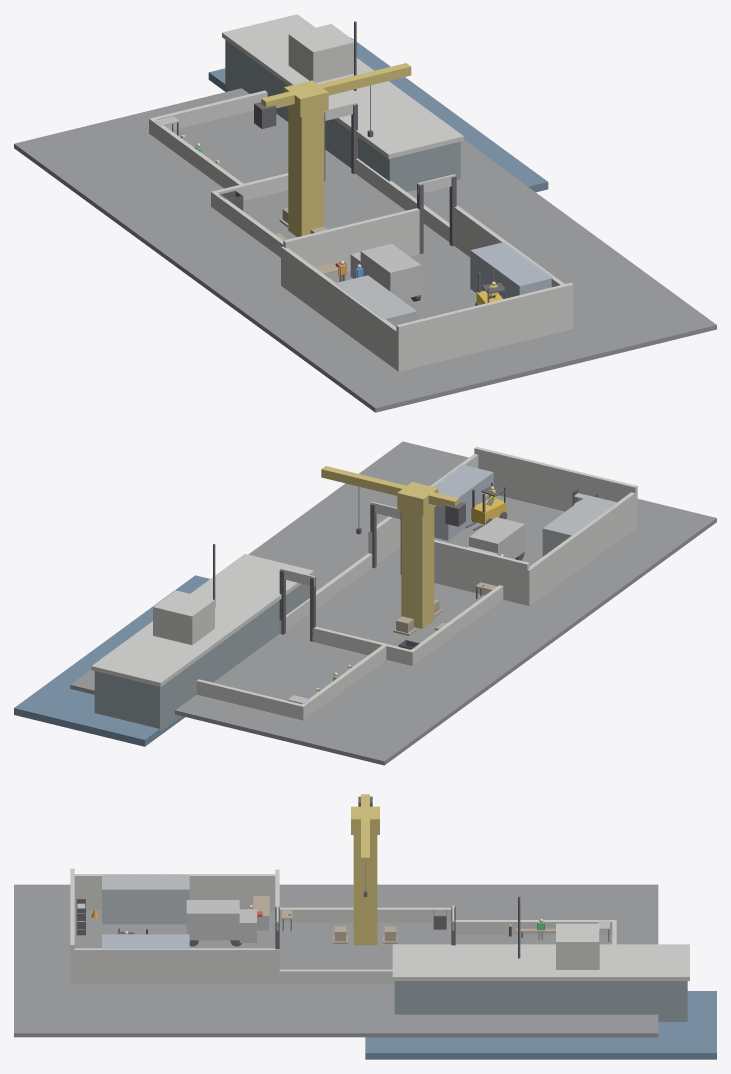
3 renders of one model, top to bottom at view 1: azimuth 30°, elevation 25°; view 2: azimuth 150°, elevation 25°; view 3: azimuth 270°, elevation 25°, orthographic. The views are drawn at different scales.
Parts seen in each view (by area): view 1: ground, S03_ship_rim, S01_wallS, S03_ship_hull, S01_wallW, S02_crane_col, S01_wallN, S03_water, S03_ship_house, S01_containerR, S01_truck_body, S01_containerL (+8 smaller); view 2: ground, S03_ship_rim, S03_ship_hull, S03_water, S01_wallS, S01_wallW, S01_wallN, S02_crane_col, S03_ship_house, S01_containerR, S01_containerL, S03_wallN (+9 smaller); view 3: ground, S03_ship_hull, S03_water, S03_ship_rim, S01_wallE, S01_containerL, S01_wallW, S02_crane_col, S02_wallW, S01_truck_body, S03_ship_house, S02_wallE (+6 smaller).
Part boxes in pixels (x1,y1,x2,y2): ground: (14, 88, 716, 412); S03_ship_rim: (222, 14, 463, 158); S01_wallS: (396, 282, 573, 371); S03_ship_hull: (225, 40, 460, 191); S01_wallW: (281, 246, 402, 370); S02_crane_col: (288, 108, 324, 236); S01_wallN: (283, 208, 419, 271); S03_water: (208, 38, 548, 192); S03_ship_house: (288, 24, 353, 82); S01_containerR: (470, 242, 553, 298); S01_truck_body: (360, 243, 421, 299); S01_containerL: (334, 275, 417, 326); ground: (70, 441, 716, 765); S03_ship_rim: (91, 554, 314, 686); S03_ship_hull: (94, 584, 309, 731); S03_water: (14, 575, 209, 746); S01_wallS: (474, 446, 637, 528); S01_wallW: (527, 492, 635, 605); S01_wallN: (434, 539, 529, 605); S02_crane_col: (401, 508, 434, 628); S03_ship_house: (153, 590, 214, 644); S01_containerR: (433, 464, 493, 540); S01_containerL: (542, 495, 617, 556); S03_wallN: (196, 679, 305, 720); ground: (14, 884, 658, 1037); S03_ship_hull: (394, 981, 687, 1021); S03_water: (365, 991, 716, 1059); S03_ship_rim: (392, 944, 689, 980); S01_wallE: (70, 948, 279, 984); S01_containerL: (102, 875, 189, 924); S01_wallW: (74, 874, 275, 910); S02_crane_col: (353, 835, 377, 945); S02_wallW: (279, 907, 451, 922); S01_truck_body: (186, 900, 239, 940); S03_ship_house: (556, 923, 599, 969); S02_wallE: (275, 969, 394, 984).
Size of the model in its own units: 26 by 10.65 by 48.
